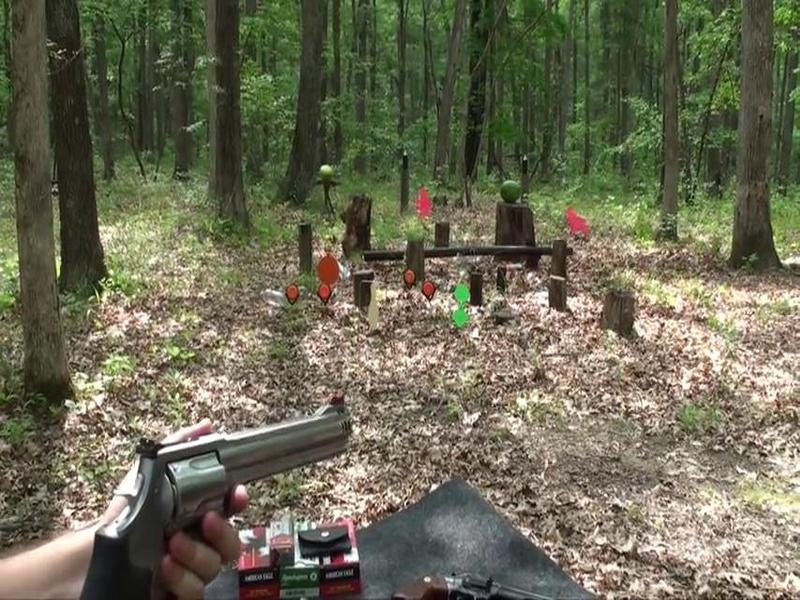Revolver: (56, 393, 389, 592)
